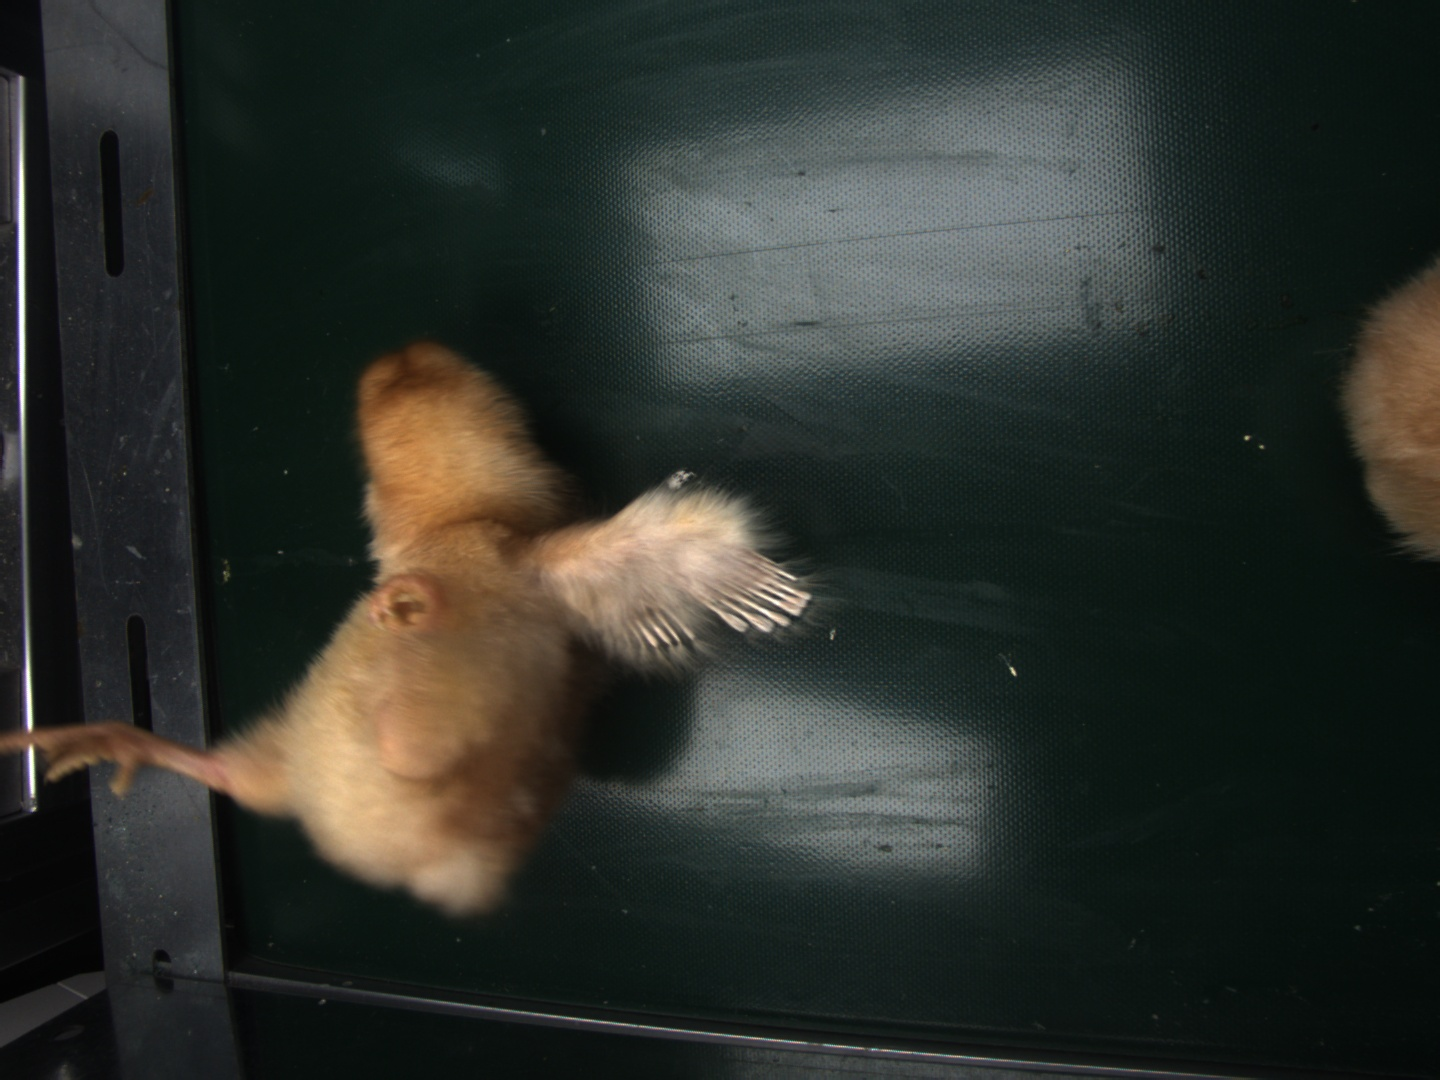female: (710, 559, 811, 633)
